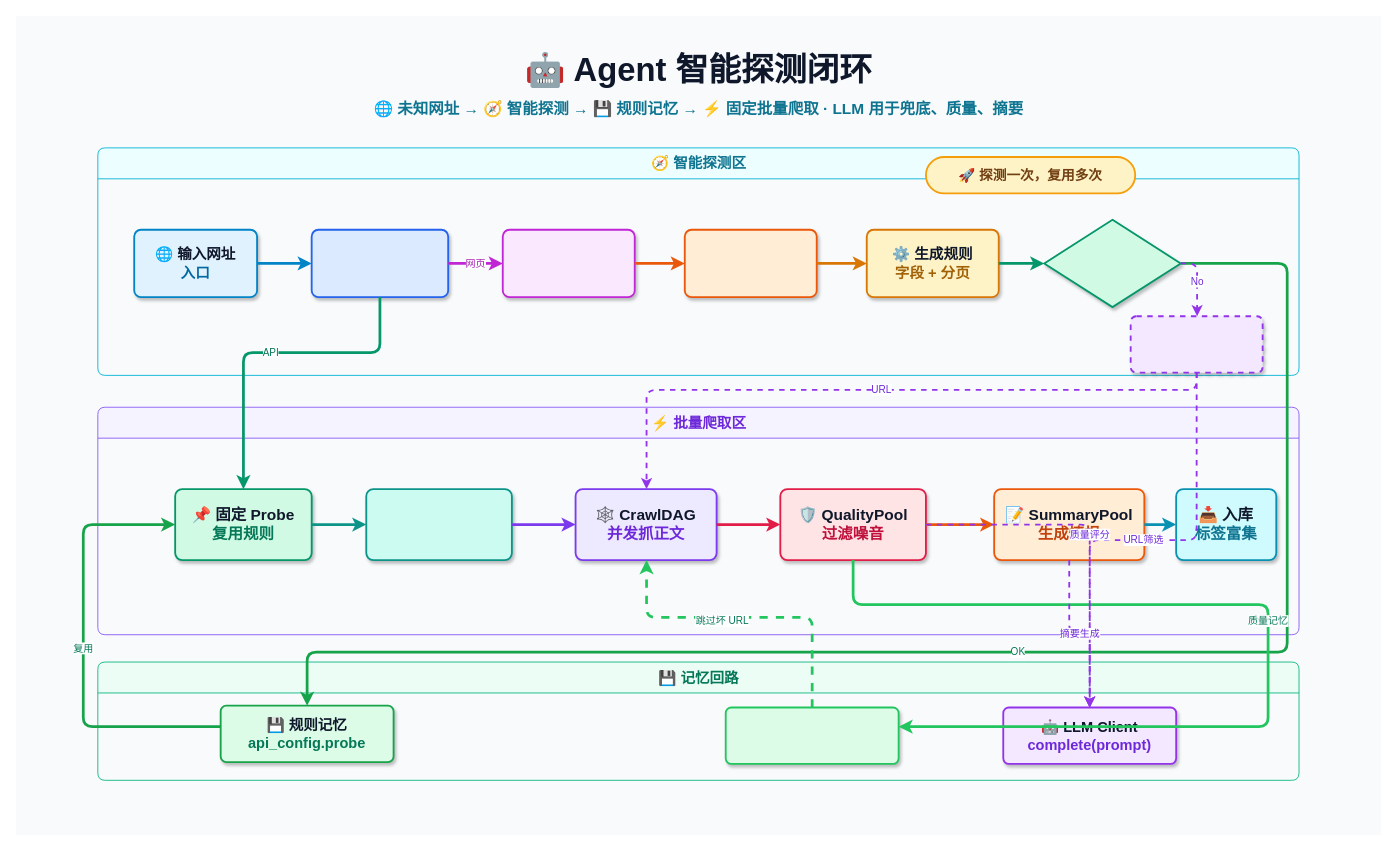
This 1396x850 diagram has some shape labels left out. The shapes that lost their labels are listed below. From the top down, each one's centre as x and y in pixels, then its label:
the point at 380,264: 🔎 来源识别 RSS / API / 网页
the point at 569,264: 🧭 智能探测 抓 XHR
the point at 751,264: 🧩 候选 API 文章列表
the point at 1113,264: ✅ 自检通过? 复跑验证
the point at 1197,345: 🧠 PlanAgent 失败兜底
the point at 439,525: ⚡ 批量抓取 翻页 / 时间窗
the point at 813,737: 🧠 站点记忆 keep / discard
